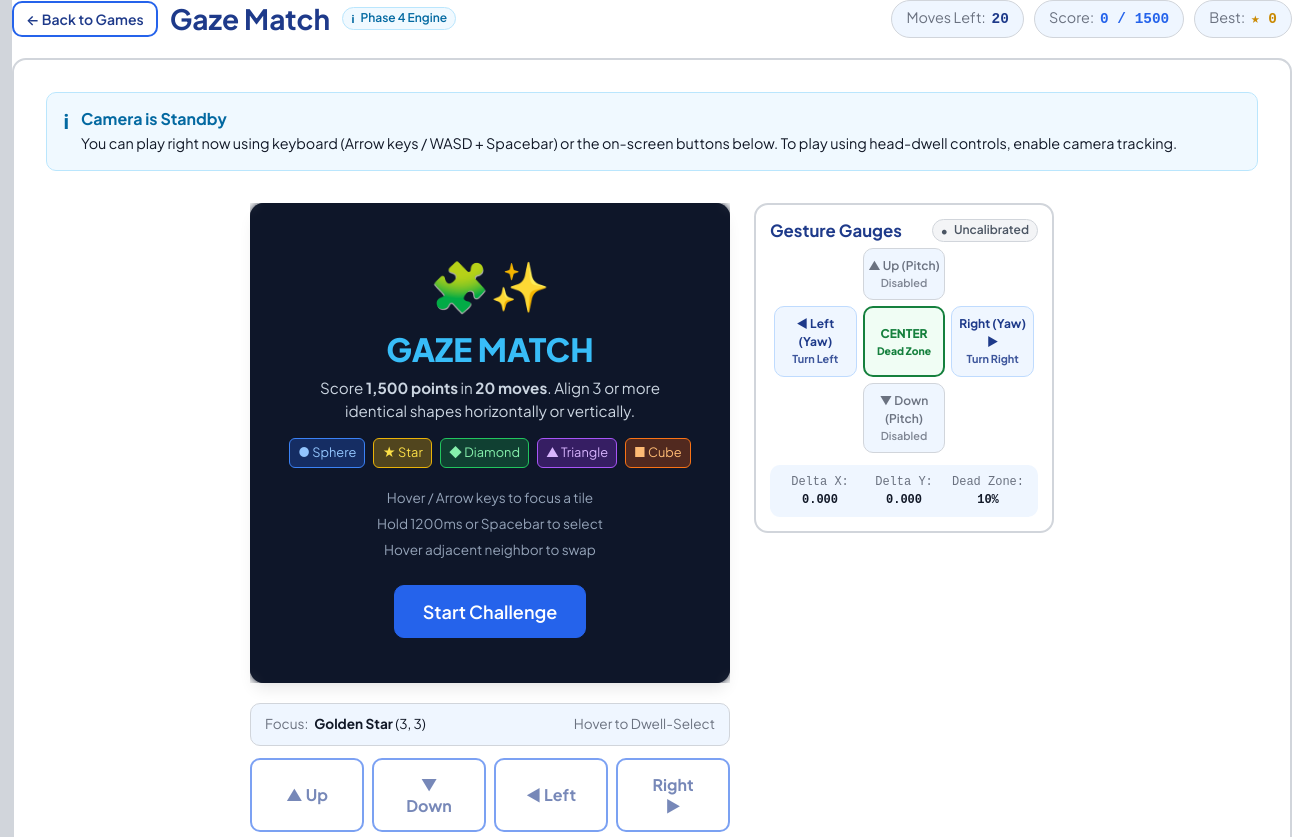
Test: GazeMatch Component & UX Integration › 2. Starts the challenge upon clicking Start Challenge and transitions to active gameplay
This screenshot has width=1292, height=837.
What coordinates should you click on to do the following:
click the button "Start Challenge"
I would click on:
 (490, 611)
Its box is [394, 585, 586, 638].
(page scrolled)
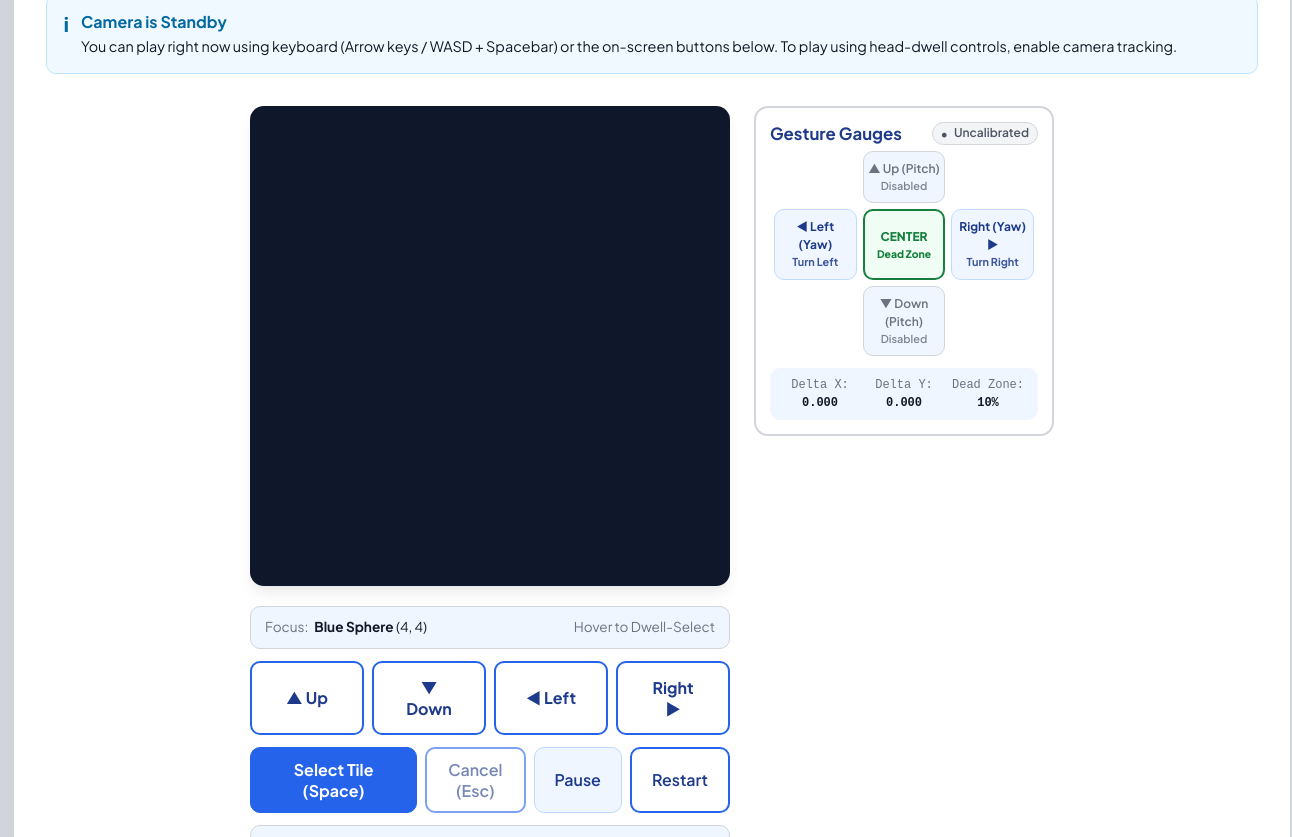
expect the button "Select Tile (Space)" is shown: met, box [250, 747, 417, 813]
expect the button "Start Challenge" is gone: met
